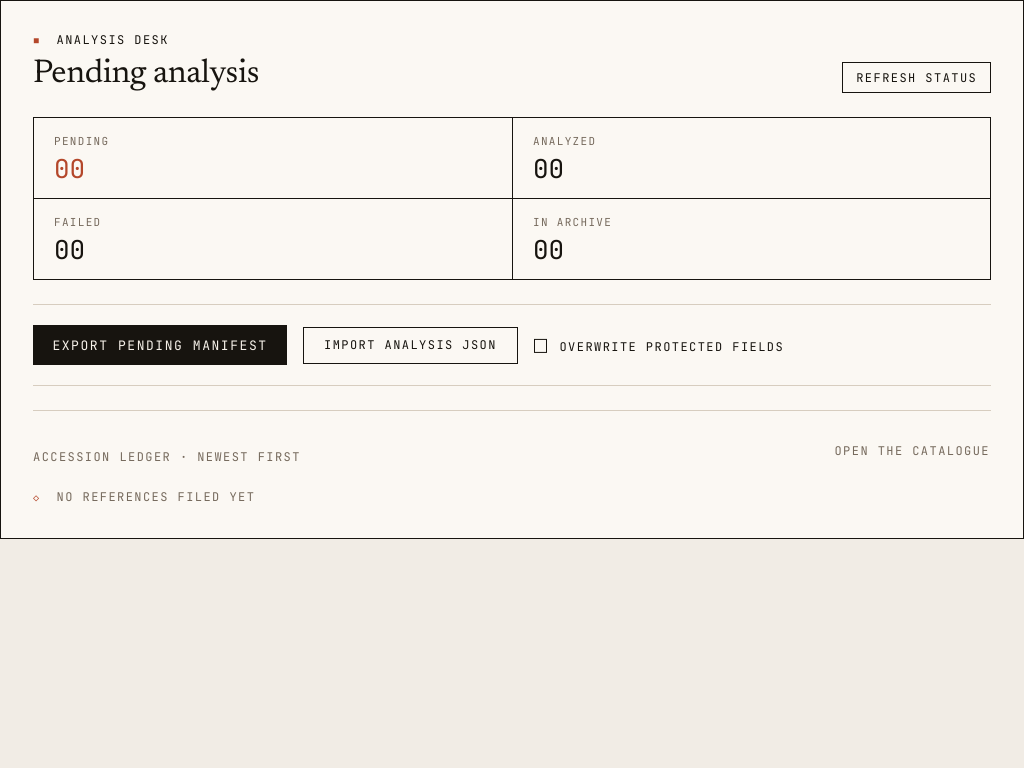
Scenario: exporting the pending manifest › downloads the manifest and says how many references it holds
What coordinates should you click on to do the following:
click the button "Export pending manifest"
I would click on:
 (160, 345)
Its box is x1=33 y1=326 x2=287 y2=365.
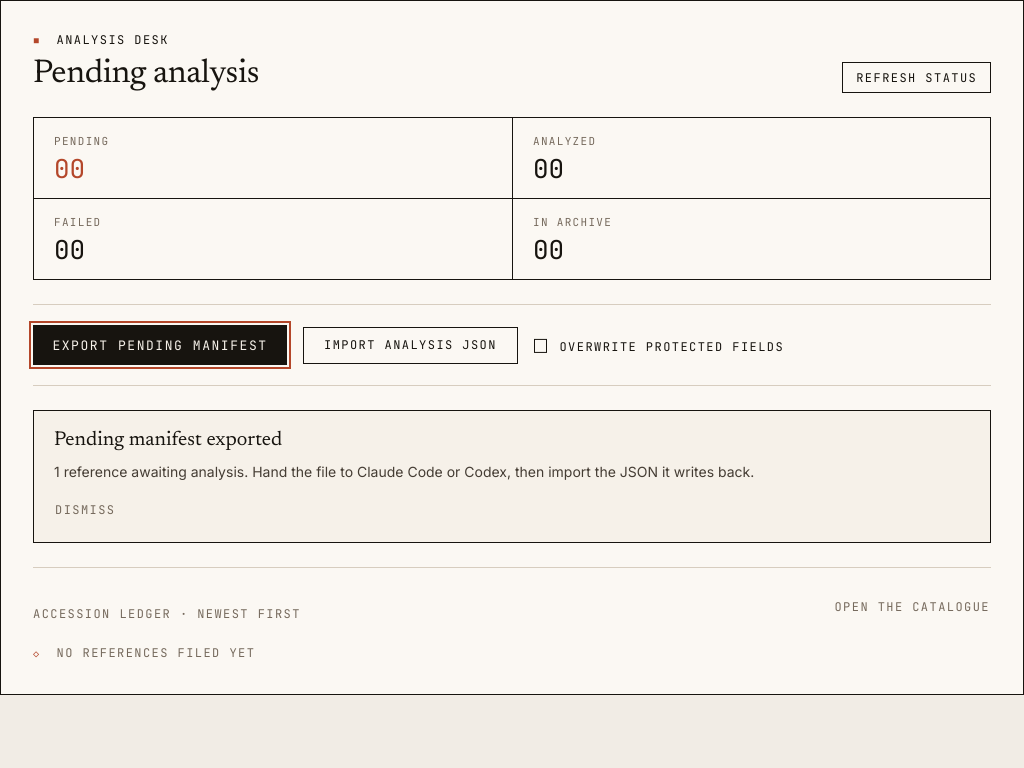
Expected: the message shows "Pending manifest exported", x1=54 y1=430 x2=282 y2=450
Expected: the message shows "1 reference awaiting analysis", x1=54 y1=463 x2=754 y2=480
